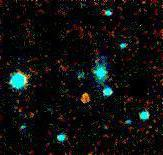star: (69, 85, 99, 115)
